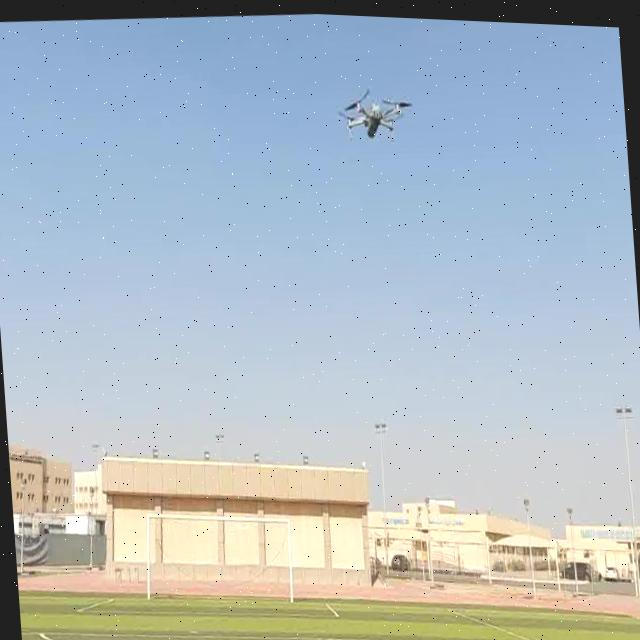drone: (332, 73, 420, 148)
